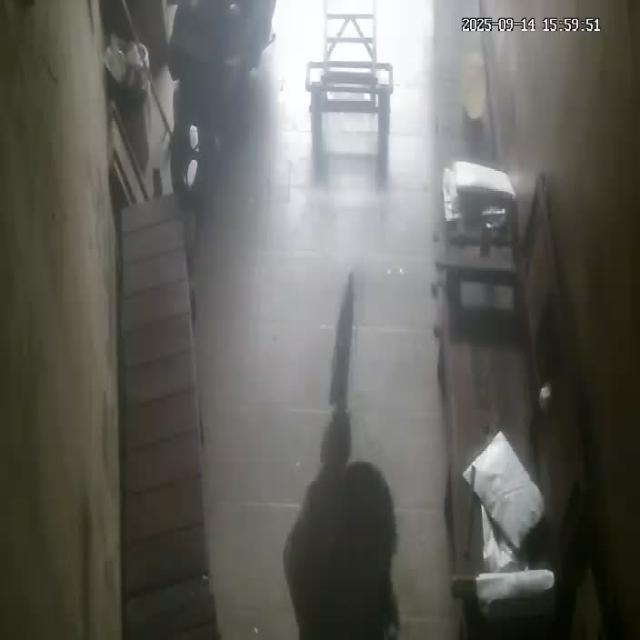senjata_tajam: (327, 266, 356, 416)
